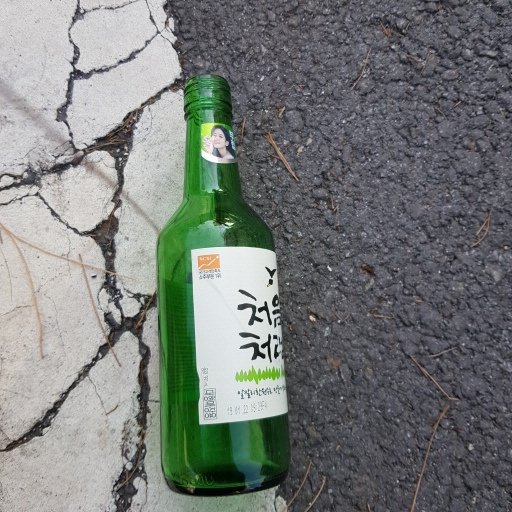Glass_0: (151, 74, 294, 494)
